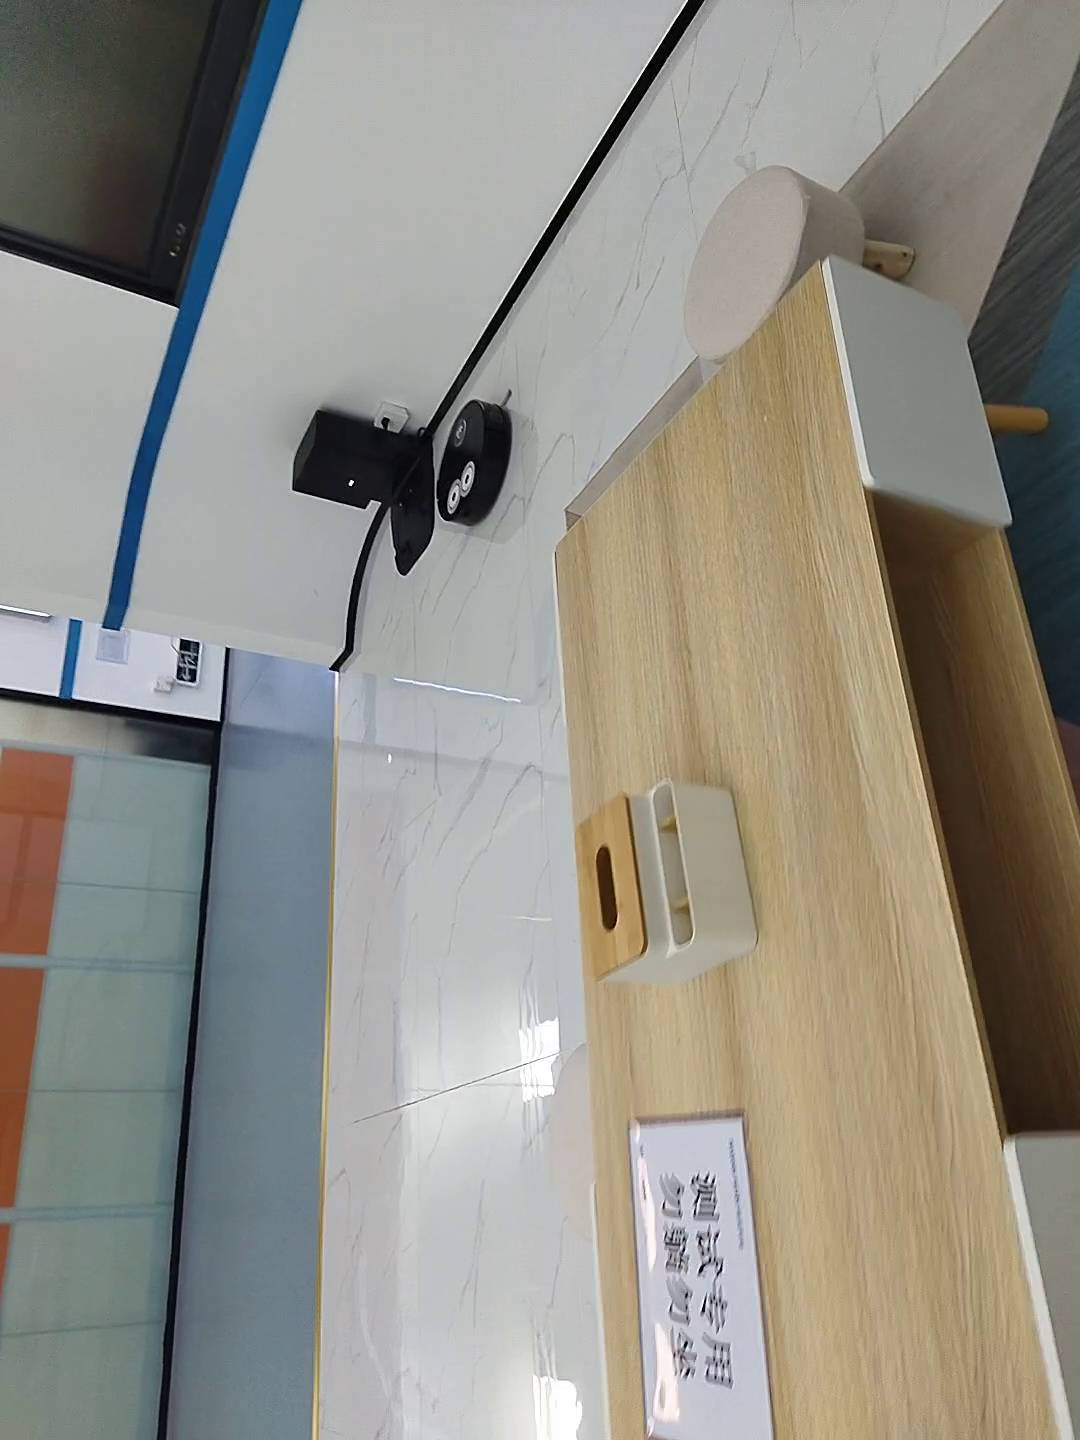dust collecting barrel: (292, 407, 436, 578)
